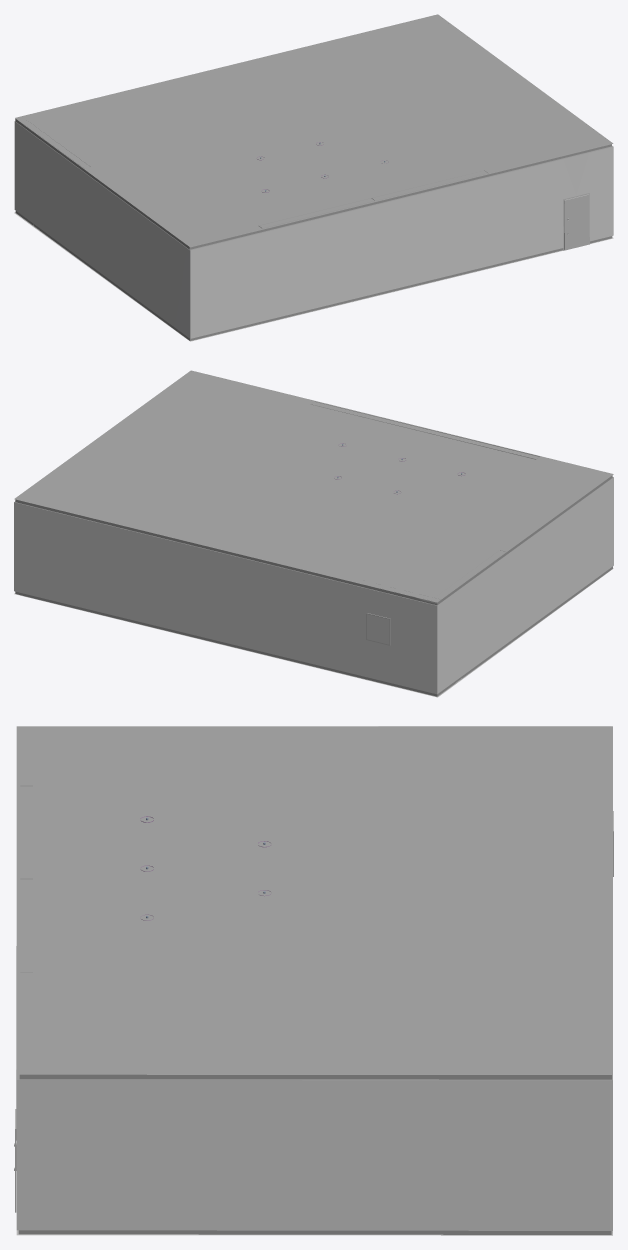
The model's file is practiceroom.FBX.
The picture shows the model from 3 angles, top to bottom: view 1: azimuth 30°, elevation 25°; view 2: azimuth 150°, elevation 25°; view 3: azimuth 270°, elevation 25°; orthographic projection. The views are drawn at different scales.
Visible parts, largest first — view 1: practiceroom_013, practiceroom_014, practiceroom_012, practiceroom_001; view 2: practiceroom_013, practiceroom_001; view 3: practiceroom_013, practiceroom_012.
Boxes of the visible parts, bbox=[...] form: practiceroom_013: bbox=[14, 14, 613, 340]; practiceroom_014: bbox=[563, 193, 589, 250]; practiceroom_012: bbox=[14, 212, 613, 341]; practiceroom_001: bbox=[258, 170, 487, 228]; practiceroom_013: bbox=[14, 370, 613, 696]; practiceroom_001: bbox=[311, 401, 539, 459]; practiceroom_013: bbox=[16, 726, 612, 1235]; practiceroom_012: bbox=[16, 1230, 612, 1235].
Bounding box in the file's own units: 1421 × 307 × 1030.
